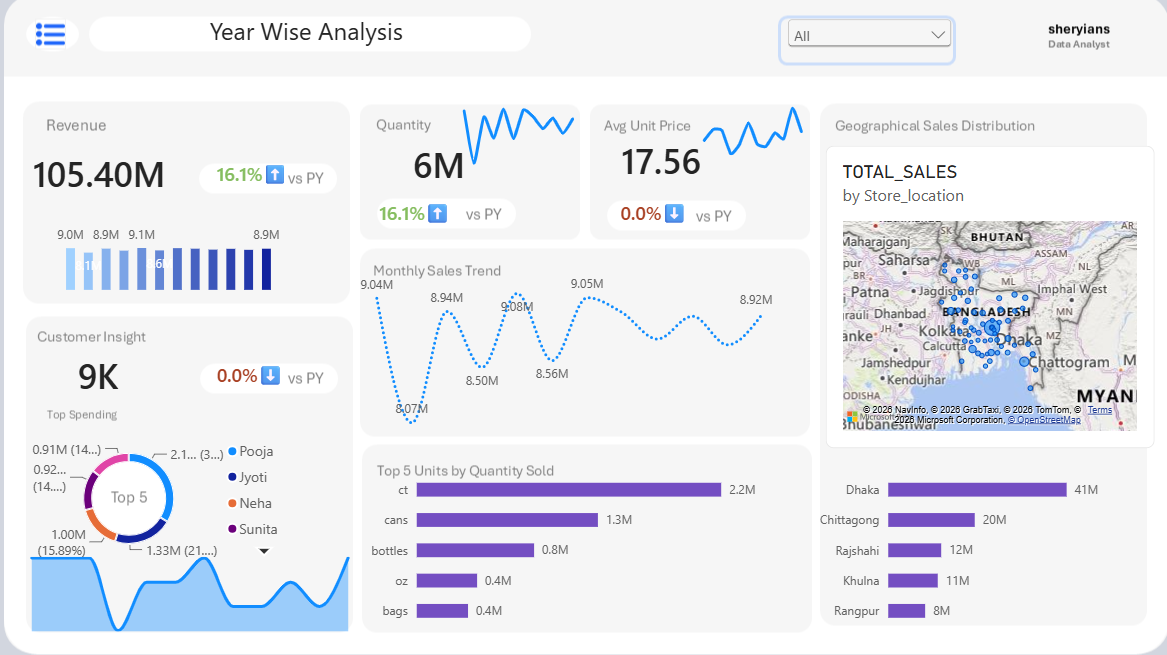

The page's visual inventory and layout, read from the dashboard file:
{"tool":"powerbi","page":{"name":"Year Wise Analysis","canvas":[1920,1080],"ordinal":0},"visuals":[{"type":"cardVisual","fields":{"Data":["DAX Measures.TOTAL_SALES"]},"box":[388.6,327.1,166.7,115],"z":0},{"type":"cardVisual","fields":{"Data":["DAX Measures.% YOY SALES"]},"box":[574.3,358.6,131.7,55],"z":1},{"type":"columnChart","fields":{"Category":["time_dim.month"],"Y":["DAX Measures.TOTAL_SALES"]},"box":[400,414.3,318.6,105.7],"z":2},{"type":"slicer","fields":{"Values":["time_dim.year"]},"box":[1155.7,227.1,172.9,45.7],"z":3},{"type":"cardVisual","fields":{"Data":["DAX Measures.TOTAL_QUANTITY"]},"box":[735.7,338.6,151.4,75.7],"z":4},{"type":"cardVisual","fields":{"Data":["DAX Measures.AVG_UNIT_PRICE"]},"box":[960,334.3,148.6,77.1],"z":5},{"type":"cardVisual","fields":{"Data":["DAX Measures.% YOY QTY"]},"box":[735.7,397.1,131.7,55],"z":6},{"type":"cardVisual","fields":{"Data":["DAX Measures.% YOY AVG UNIT PRICE"]},"box":[977.1,397.1,131.7,55],"z":7},{"type":"lineChart","fields":{"Category":["time_dim.month"],"Y":["DAX Measures.TOTAL_QUANTITY"]},"box":[802.9,282.9,200,114.3],"z":8},{"type":"lineChart","fields":{"Category":["time_dim.month"],"Y":["DAX Measures.AVG_UNIT_PRICE"]},"box":[1042.9,282.9,184.3,101.4],"z":9},{"type":"cardVisual","fields":{"Data":["DAX Measures.CUSTOMERS"]},"box":[387.1,540,167.1,95.7],"z":10},{"type":"cardVisual","fields":{"Data":["DAX Measures.% YOY CUSTOMERS"]},"box":[574.3,560,131.7,55],"z":11},{"type":"donutChart","fields":{"Category":["customer_dim.name"],"Y":["DAX Measures.TOTAL_SALES"]},"box":[388.6,635.7,300,151.4],"z":12},{"type":"stackedAreaChart","fields":{"Category":["time_dim.month"],"Y":["DAX Measures.CUSTOMERS"]},"box":[350,747.1,397.1,112.9],"z":13},{"type":"lineChart","fields":{"Category":["time_dim.month"],"Y":["DAX Measures.TOTAL_SALES"]},"box":[688.6,467.1,472.9,194.3],"z":14},{"type":"clusteredBarChart","fields":{"Category":["fact_table.unit"],"Y":["DAX Measures.TOTAL_QUANTITY"]},"box":[724.3,661.4,431.4,198.6],"z":15},{"type":"clusteredBarChart","fields":{"Category":["store_dim.division"],"Y":["DAX Measures.TOTAL_SALES"]},"box":[1171.4,661.4,368.6,198.6],"z":17},{"type":"map","fields":{"Category":["store_dim.Store_location"]},"box":[1205.7,364.3,300,223.5],"z":18}]}

Visuals, with their boxes in screenshot pixels (x1, y1, x2, y2), scaled from the page's 1920x1080 canvas onto the 1167x655 screenshot:
cardVisual - DAX Measures.TOTAL_SALES: {"left": 236, "top": 198, "right": 338, "bottom": 268}
cardVisual - DAX Measures.% YOY SALES: {"left": 349, "top": 217, "right": 429, "bottom": 251}
columnChart - time_dim.month x DAX Measures.TOTAL_SALES: {"left": 243, "top": 251, "right": 437, "bottom": 315}
slicer - time_dim.year: {"left": 702, "top": 138, "right": 808, "bottom": 165}
cardVisual - DAX Measures.TOTAL_QUANTITY: {"left": 447, "top": 205, "right": 539, "bottom": 251}
cardVisual - DAX Measures.AVG_UNIT_PRICE: {"left": 584, "top": 203, "right": 674, "bottom": 250}
cardVisual - DAX Measures.% YOY QTY: {"left": 447, "top": 241, "right": 527, "bottom": 274}
cardVisual - DAX Measures.% YOY AVG UNIT PRICE: {"left": 594, "top": 241, "right": 674, "bottom": 274}
lineChart - time_dim.month x DAX Measures.TOTAL_QUANTITY: {"left": 488, "top": 172, "right": 610, "bottom": 241}
lineChart - time_dim.month x DAX Measures.AVG_UNIT_PRICE: {"left": 634, "top": 172, "right": 746, "bottom": 233}
cardVisual - DAX Measures.CUSTOMERS: {"left": 235, "top": 328, "right": 337, "bottom": 386}
cardVisual - DAX Measures.% YOY CUSTOMERS: {"left": 349, "top": 340, "right": 429, "bottom": 373}
donutChart - customer_dim.name x DAX Measures.TOTAL_SALES: {"left": 236, "top": 386, "right": 419, "bottom": 477}
stackedAreaChart - time_dim.month x DAX Measures.CUSTOMERS: {"left": 213, "top": 453, "right": 454, "bottom": 522}
lineChart - time_dim.month x DAX Measures.TOTAL_SALES: {"left": 419, "top": 283, "right": 706, "bottom": 401}
clusteredBarChart - fact_table.unit x DAX Measures.TOTAL_QUANTITY: {"left": 440, "top": 401, "right": 702, "bottom": 522}
clusteredBarChart - store_dim.division x DAX Measures.TOTAL_SALES: {"left": 712, "top": 401, "right": 936, "bottom": 522}
map - store_dim.Store_location: {"left": 733, "top": 221, "right": 915, "bottom": 356}
